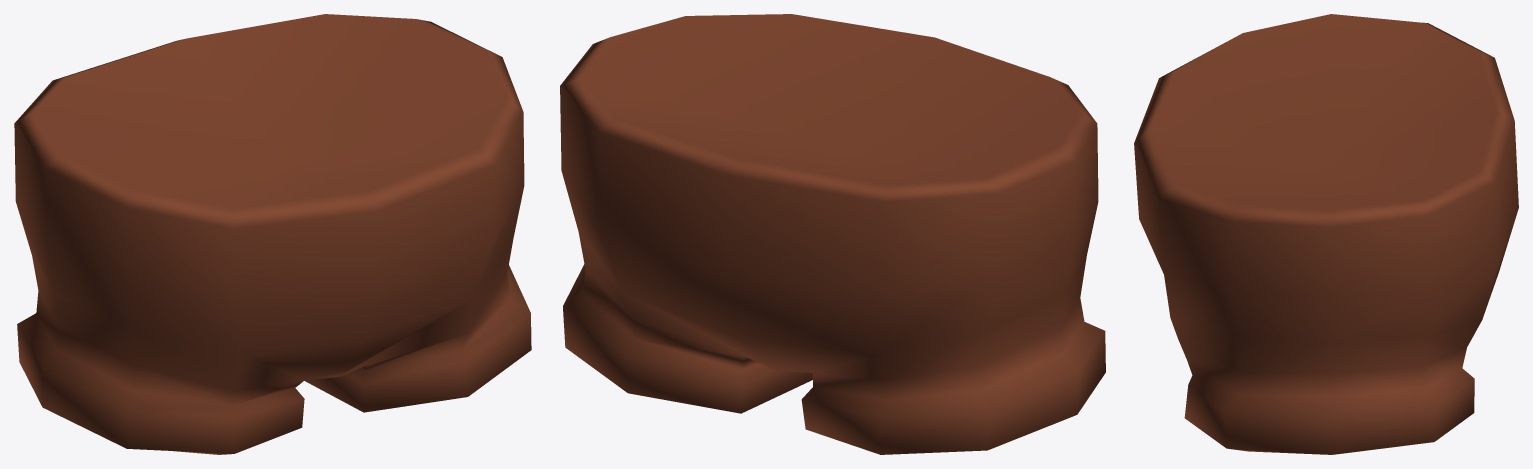
The model's file is Bottom_53.fbx.
3 views of the same model, side by side, from view 1: azimuth 30°, elevation 25°; view 2: azimuth 150°, elevation 25°; view 3: azimuth 270°, elevation 25° (orthographic). The views are drawn at different scales.
Parts seen in each view (by area): view 1: Bottom_53; view 2: Bottom_53; view 3: Bottom_53.
Boxes of the visible parts, bbox=[...] form: Bottom_53: bbox=[14, 14, 531, 454]; Bottom_53: bbox=[560, 14, 1105, 454]; Bottom_53: bbox=[1134, 14, 1518, 454].
Bounding box in the file's own units: 38.94 × 22.89 × 29.68.
